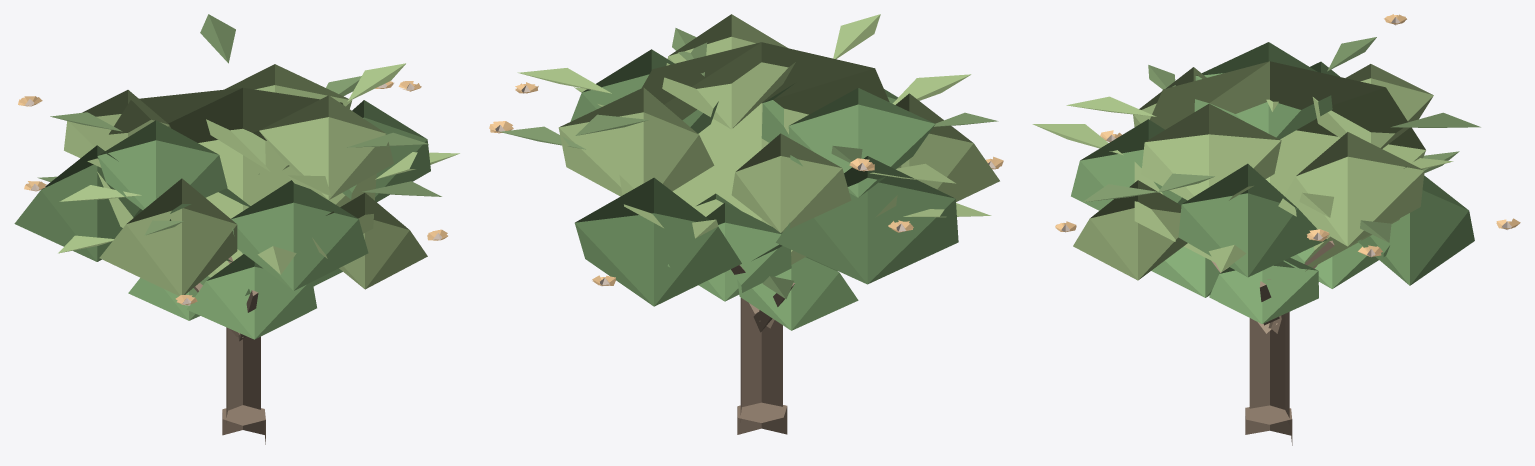
File: shu.fenghuang@flowering__spring.glb
3 renders of one model, left to right at view 1: azimuth 30°, elevation 25°; view 2: azimuth 150°, elevation 25°; view 3: azimuth 270°, elevation 25°, orthographic. The views are drawn at different scales.
Parts seen in each view (by area): view 1: shu.fenghuang@flowering__spring; view 2: shu.fenghuang@flowering__spring; view 3: shu.fenghuang@flowering__spring.
Boxes of the visible parts, x1,y1,x2,y2 form: shu.fenghuang@flowering__spring: [14, 14, 459, 444]; shu.fenghuang@flowering__spring: [489, 14, 1003, 434]; shu.fenghuang@flowering__spring: [1032, 14, 1520, 445].
Bounding box in the file's own units: 14.45 × 12.07 × 14.61.
